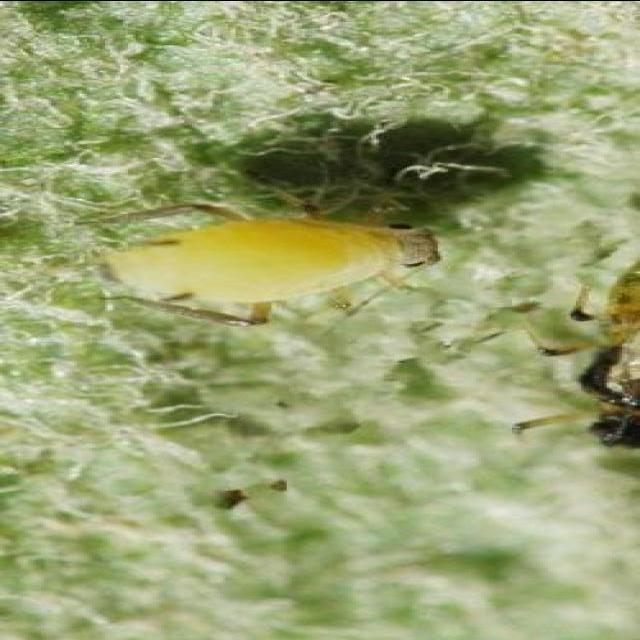aphid: (54, 199, 496, 320)
